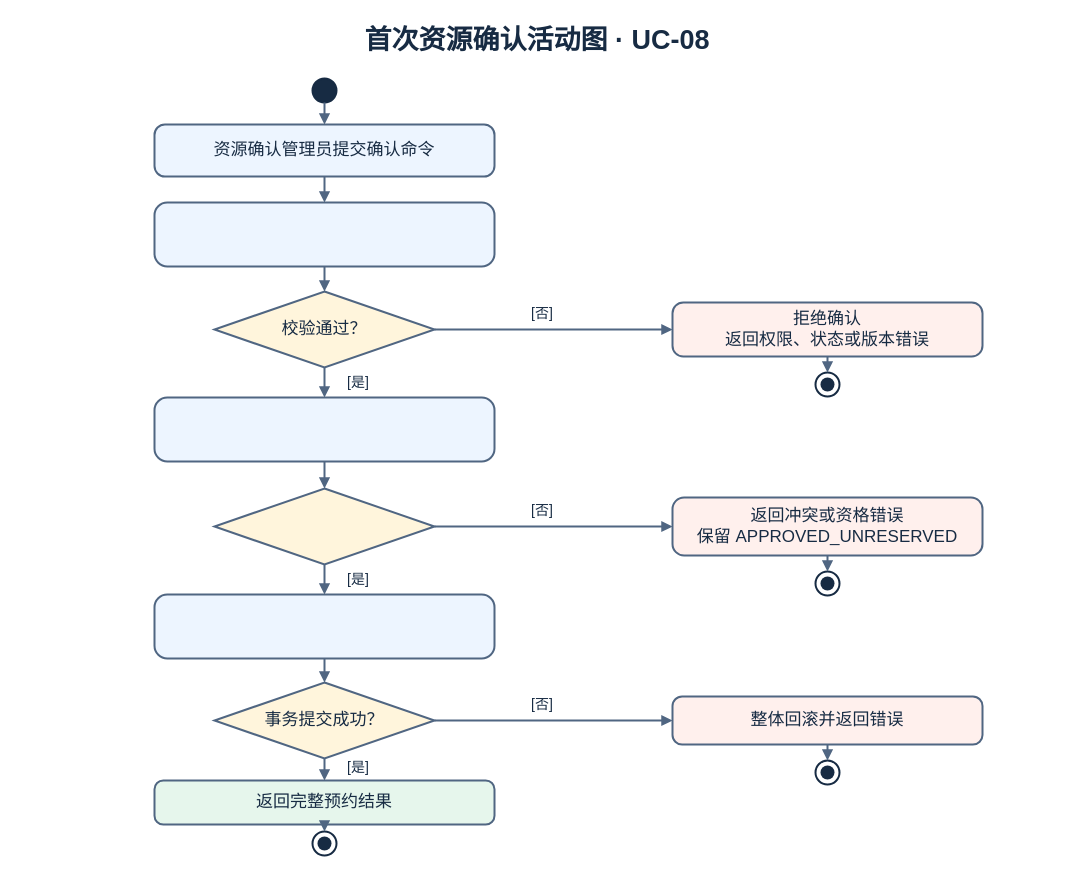
Image size: 1074x873. Some labels were removed from this diagram. Each missing label, with the box of its shape:
同一事务写入整组预约 设置有效版本并转为 SCHEDULED: (153, 593, 495, 659)
整组预约可行？: (213, 487, 435, 565)
经 SchedulingPort 按 UUID 锁资源 复核最新资格与调度硬约束: (153, 396, 495, 462)
锁定活动与相关用户后校验 权限、范围、本人回避、状态及版本: (153, 201, 495, 267)
